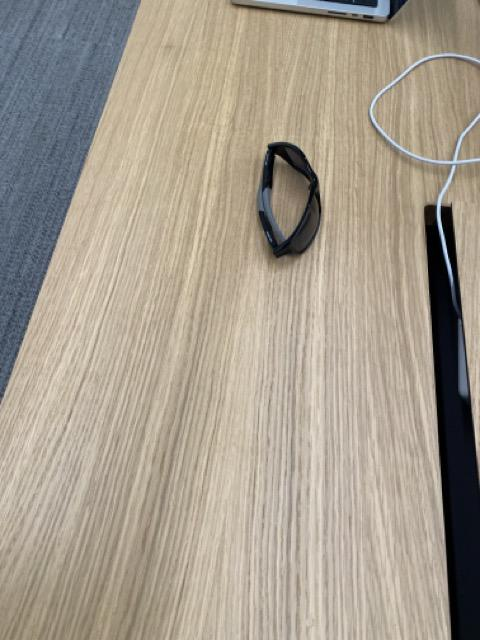Sunglasses: (260, 140, 324, 261)
